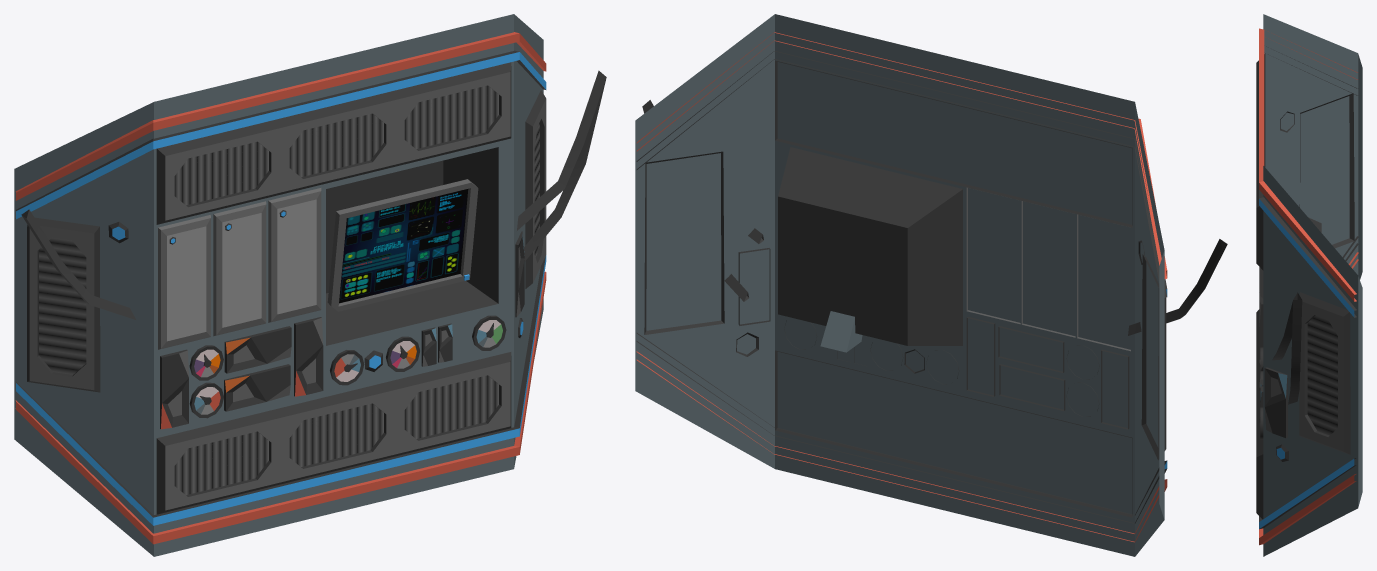
Rendered from SciFi_Panel_1.fbx.
The picture shows the model from 3 angles, left to right: view 1: azimuth 30°, elevation 25°; view 2: azimuth 150°, elevation 25°; view 3: azimuth 270°, elevation 25°; orthographic projection. The views are drawn at different scales.
Visible parts, largest first — view 1: SciFi_Panel_1; view 2: SciFi_Panel_1; view 3: SciFi_Panel_1.
Part boxes in pixels (x1,y1,x2,y2): SciFi_Panel_1: (14, 14, 606, 556); SciFi_Panel_1: (635, 14, 1227, 556); SciFi_Panel_1: (1256, 14, 1362, 556).
Size of the model in its own units: 490 by 367 by 90.34.
